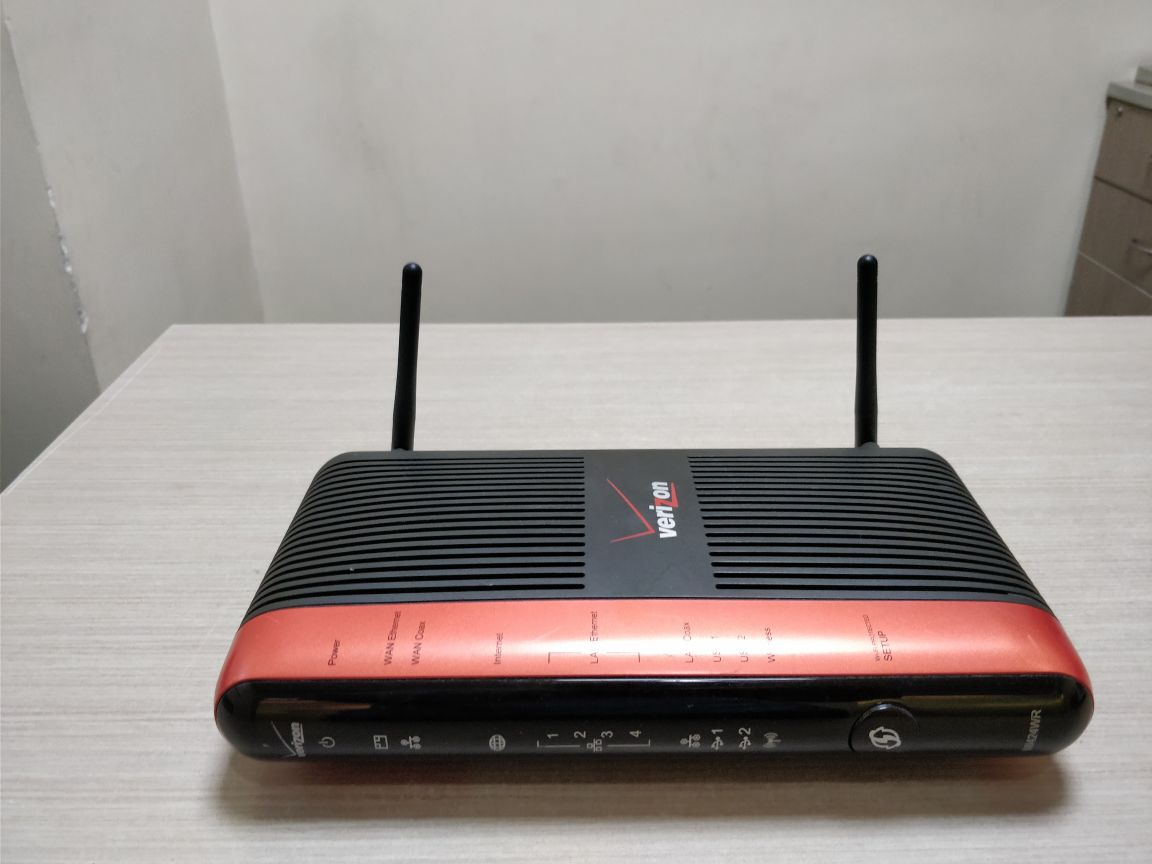Verizon Router: (194, 279, 1113, 817)
